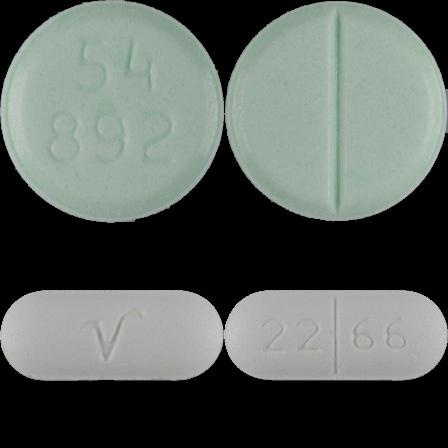66336-479: (0, 0, 224, 224)
